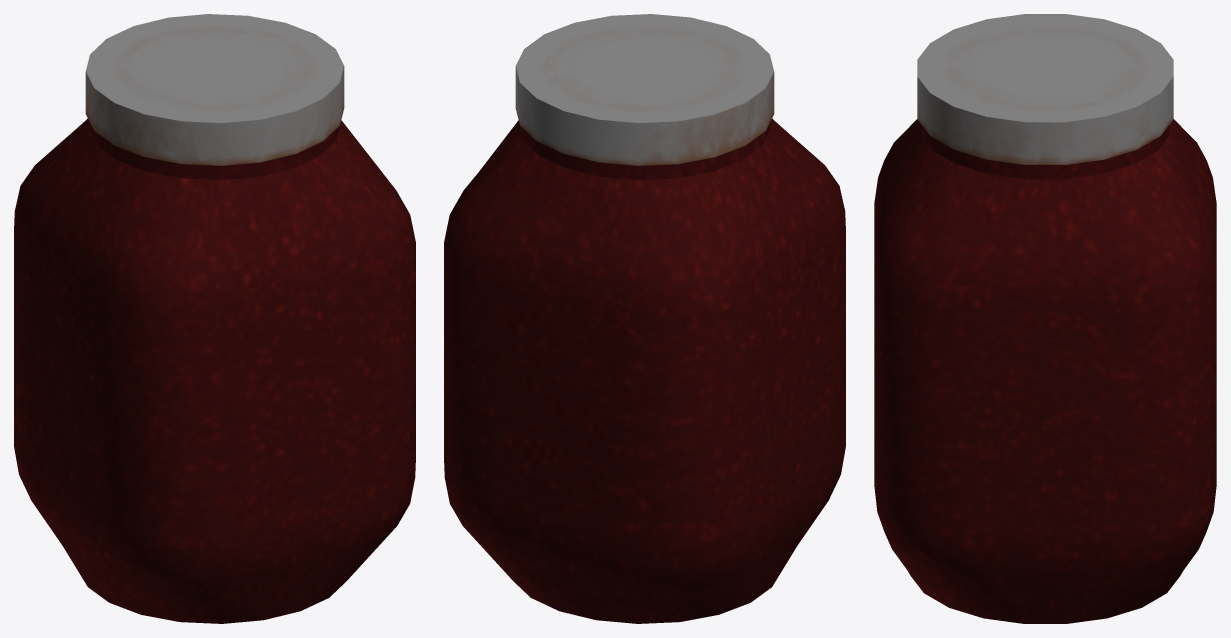
File: GlassCan_A.fbx
3 renders of one model, left to right at view 1: azimuth 30°, elevation 25°; view 2: azimuth 150°, elevation 25°; view 3: azimuth 270°, elevation 25°, orthographic.
Visible parts, largest first — view 1: GlassCan_A_LOD0; view 2: GlassCan_A_LOD0; view 3: GlassCan_A_LOD0.
Boxes of the visible parts, x1,y1,x2,y2 form: GlassCan_A_LOD0: (14,14,415,623); GlassCan_A_LOD0: (444,14,845,623); GlassCan_A_LOD0: (874,14,1216,623).
Size of what is drawn, in the model's own units: 11.98 by 19.28 by 11.98.
